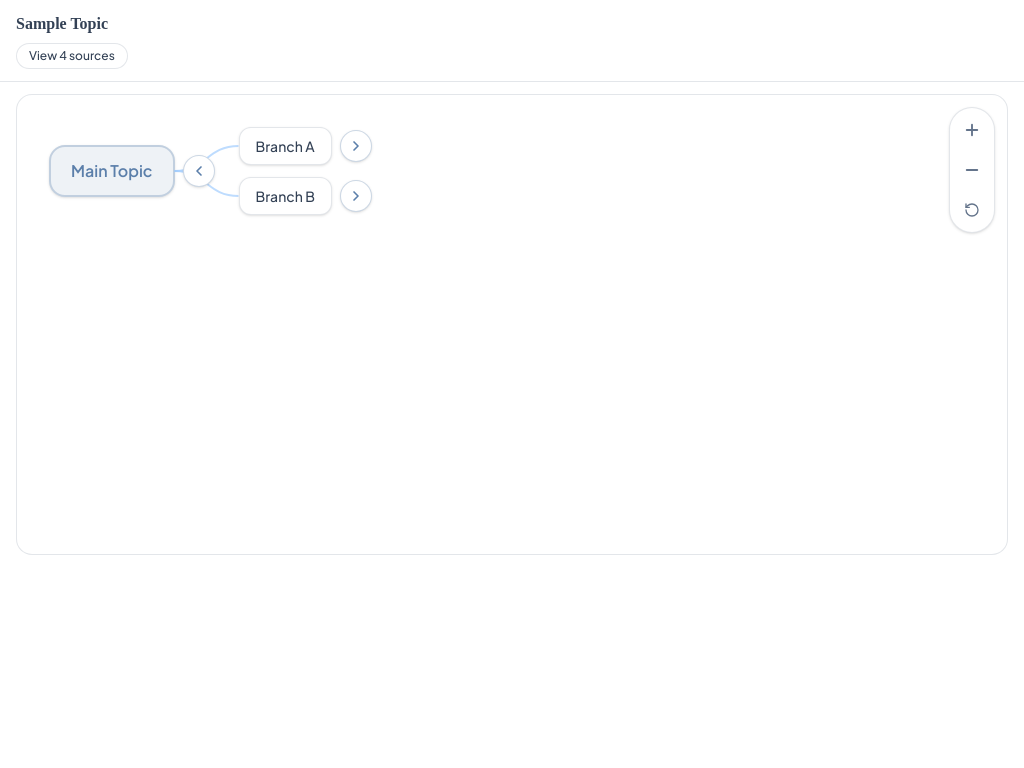
ArtifactViewer mind map › clicking a node's toggle button expands its subtree; clicking again collapses it
Expected: the element with test id "mindmap-canvas" is shown, [17,95,1007,554]
Click the button with test id "mindmap-toggle-0.0". click: (356, 146)
box: [340,130,372,162]
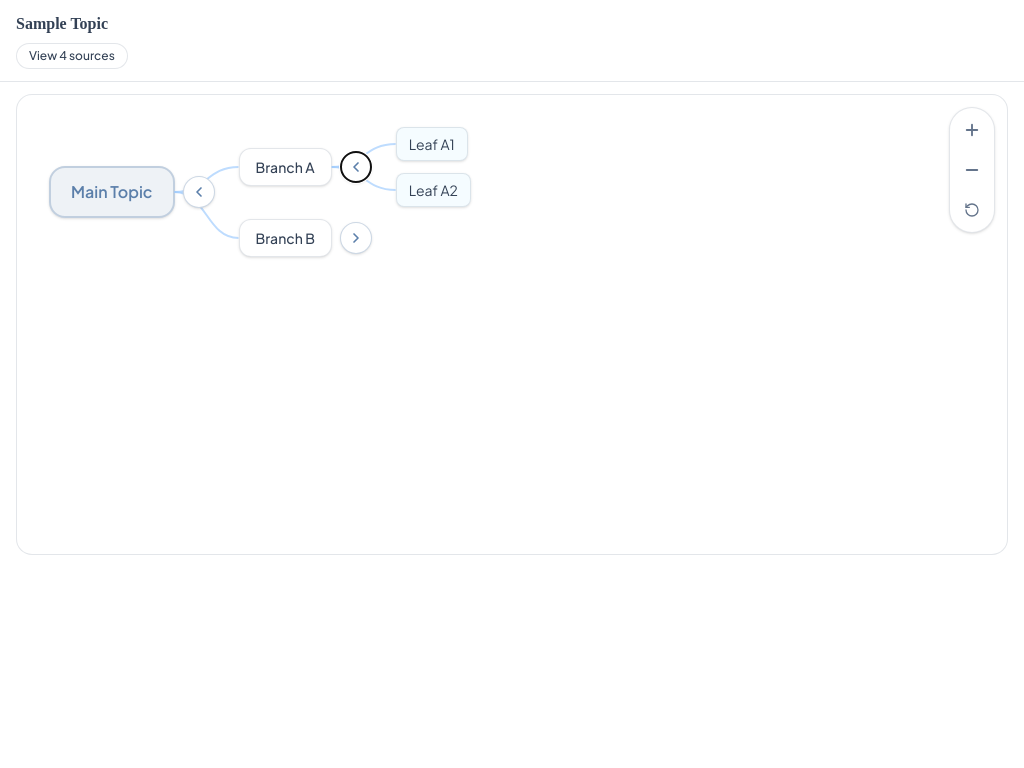
Expected: the text "Leaf A1" is shown, [409,135,455,153]
Expected: the text "Leaf A2" is shown, [409,181,458,199]
Collapse — leaves disappear.
Click the button with test id "mindmap-toggle-0.0". click: (356, 167)
box: [340,151,372,183]
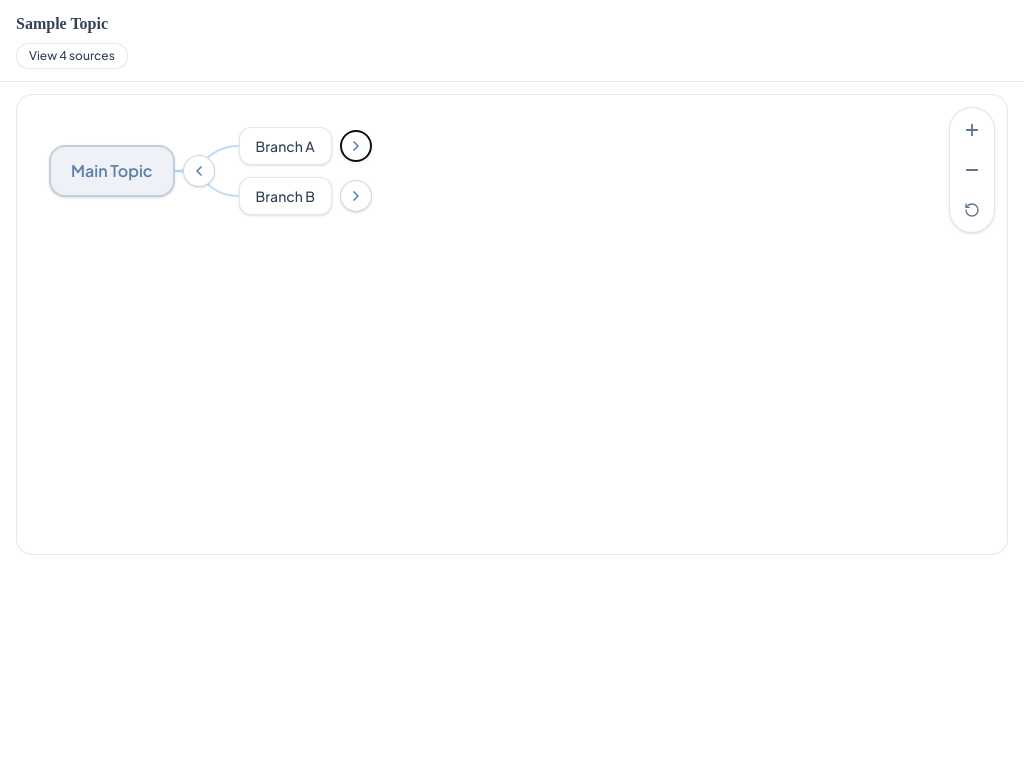
Expected: the text "Leaf A1" is gone
